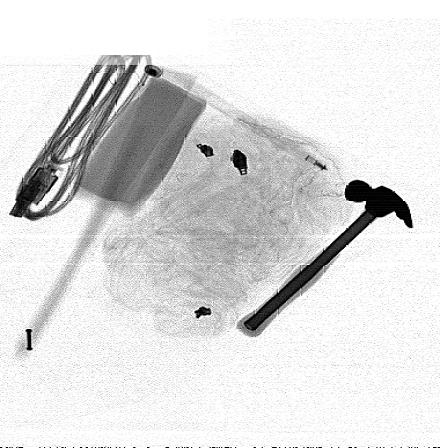Hammer: (235, 179, 414, 337)
